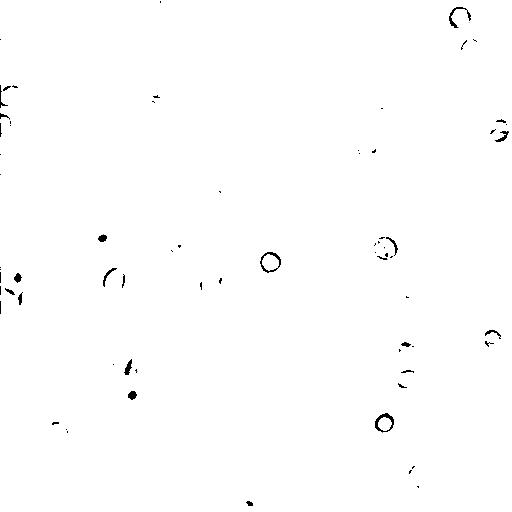micro-algae: (327, 173, 392, 236), (113, 378, 153, 416), (97, 348, 137, 383), (110, 352, 147, 388), (404, 461, 437, 497), (90, 221, 124, 250), (367, 92, 394, 127), (385, 286, 419, 313), (102, 267, 127, 298), (485, 118, 512, 145), (371, 235, 398, 262), (447, 5, 473, 32), (42, 420, 70, 445), (437, 299, 461, 328), (1, 82, 27, 108), (5, 264, 31, 290), (232, 490, 262, 512), (212, 174, 237, 200), (458, 36, 483, 62), (199, 270, 224, 295), (393, 368, 419, 390), (497, 271, 512, 308), (372, 411, 395, 435), (259, 250, 281, 275), (163, 233, 184, 256), (481, 327, 502, 350), (356, 137, 378, 158), (158, 1, 181, 20), (72, 7, 95, 26), (395, 341, 418, 360), (0, 287, 18, 310), (16, 288, 36, 307), (2, 114, 13, 135)
